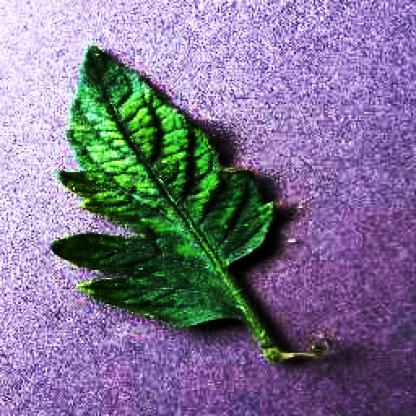Virus: (42, 37, 338, 369)
